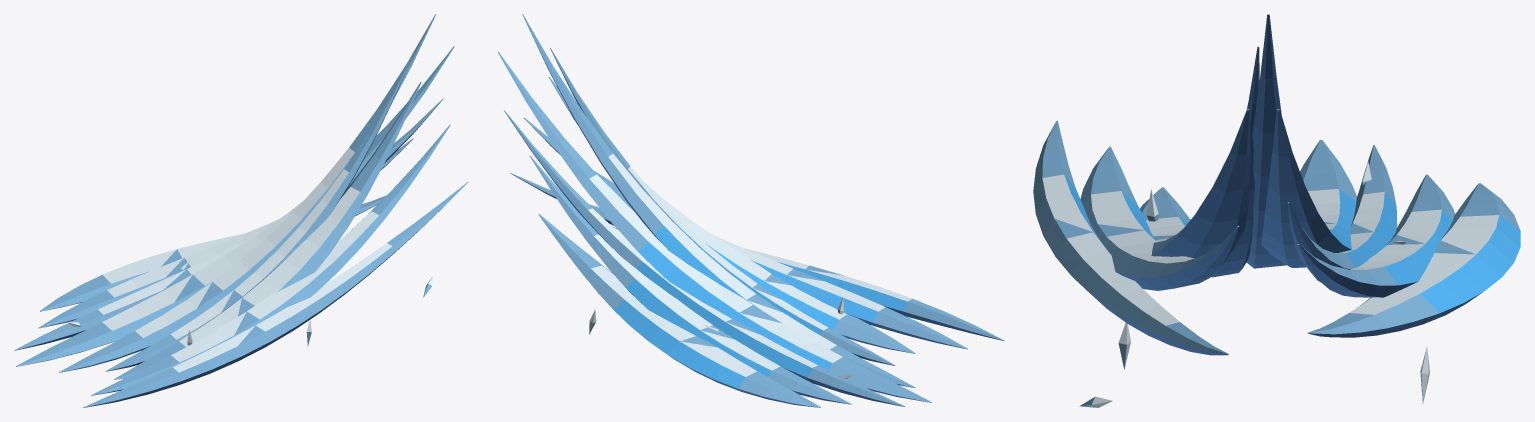
The model's file is Wind_Burst.fbx.
The picture shows the model from 3 angles, left to right: view 1: azimuth 30°, elevation 25°; view 2: azimuth 150°, elevation 25°; view 3: azimuth 270°, elevation 25°; orthographic projection. The views are drawn at different scales.
Visible parts, largest first — view 1: Air_Blade_1, Air_Blade_5, Air_Blade_3, Air_Blade_2, Air_Blade_6, Air_Blade_4, Air_Blade_8, Air_Blade_7, Air_Blade_9; view 2: Air_Blade_6, Air_Blade_9, Air_Blade_5, Air_Blade_7, Air_Blade_8, Air_Blade_3, Air_Blade_2, Air_Blade_4, Air_Blade_1; view 3: Air_Blade_9, Air_Blade_1, Air_Blade_6, Air_Blade_2, Air_Blade_8, Air_Blade_3, Air_Blade_7, Air_Blade_5, Air_Blade_4.
Part boxes in pixels (<box>): Air_Blade_1: <box>83,181,468,407</box>; Air_Blade_5: <box>59,14,435,372</box>; Air_Blade_3: <box>114,82,421,379</box>; Air_Blade_2: <box>91,124,450,395</box>; Air_Blade_6: <box>16,46,454,366</box>; Air_Blade_4: <box>106,50,414,371</box>; Air_Blade_8: <box>38,138,413,328</box>; Air_Blade_7: <box>14,99,443,350</box>; Air_Blade_9: <box>40,195,386,311</box>; Air_Blade_6: <box>497,51,931,402</box>; Air_Blade_9: <box>538,214,820,407</box>; Air_Blade_5: <box>522,14,915,387</box>; Air_Blade_7: <box>504,110,904,406</box>; Air_Blade_8: <box>529,155,851,404</box>; Air_Blade_3: <box>548,77,915,353</box>; Air_Blade_2: <box>524,117,967,349</box>; Air_Blade_4: <box>550,48,895,365</box>; Air_Blade_1: <box>510,173,1004,340</box>; Air_Blade_9: <box>1307,183,1520,337</box>; Air_Blade_1: <box>1033,120,1228,355</box>; Air_Blade_6: <box>1261,109,1357,267</box>; Air_Blade_2: <box>1080,146,1239,290</box>; Air_Blade_8: <box>1297,174,1454,297</box>; Air_Blade_3: <box>1140,109,1250,257</box>; Air_Blade_7: <box>1287,145,1397,281</box>; Air_Blade_5: <box>1246,14,1286,268</box>; Air_Blade_4: <box>1212,46,1259,277</box>.
Size of the model in its own units: 543 by 323 by 277.
